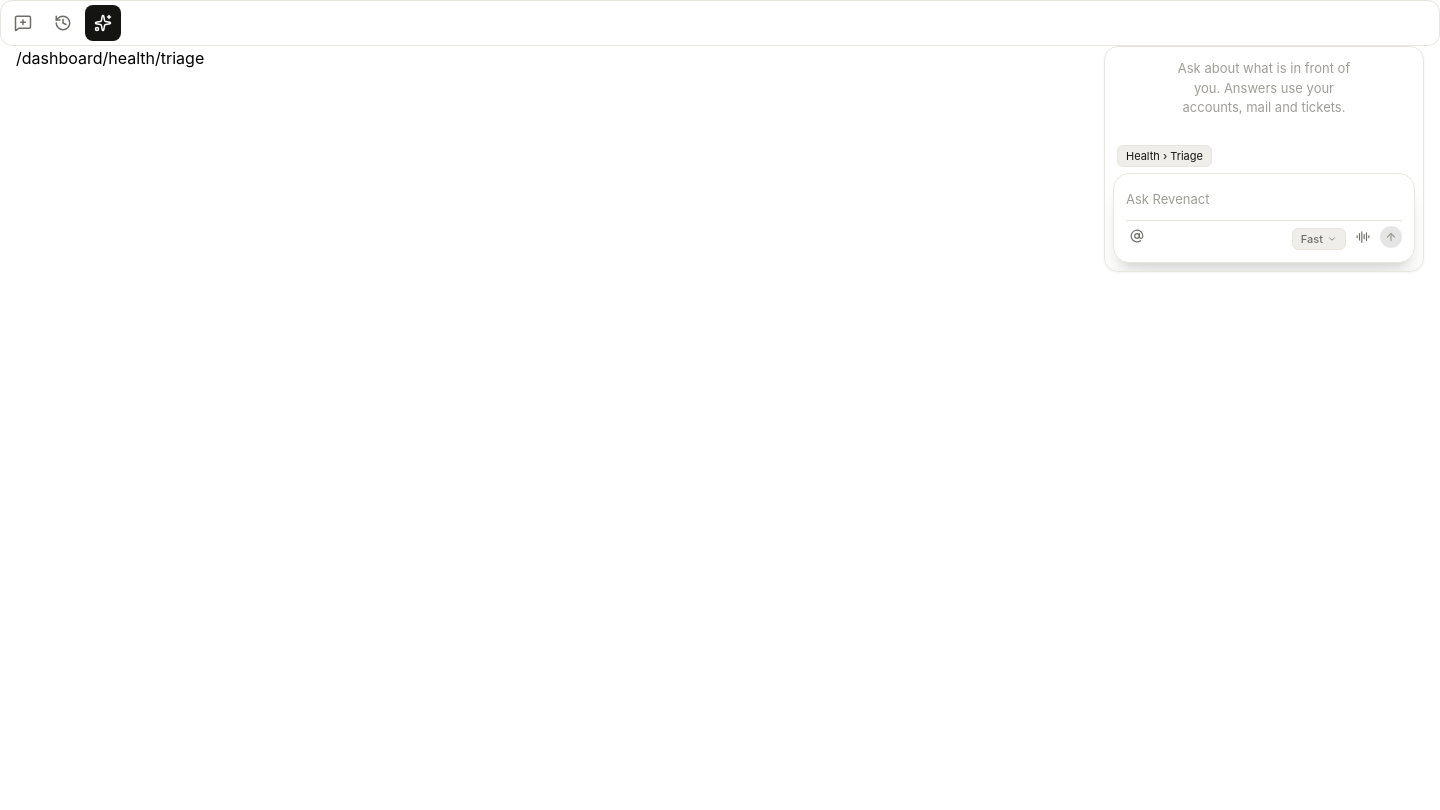
Test case: reopening from history on the dashboard › opens a conversation from elsewhere where you are
The width and height of the screenshot is (1440, 810).
Click the button named "History" at (63, 23), box [45, 5, 81, 41]
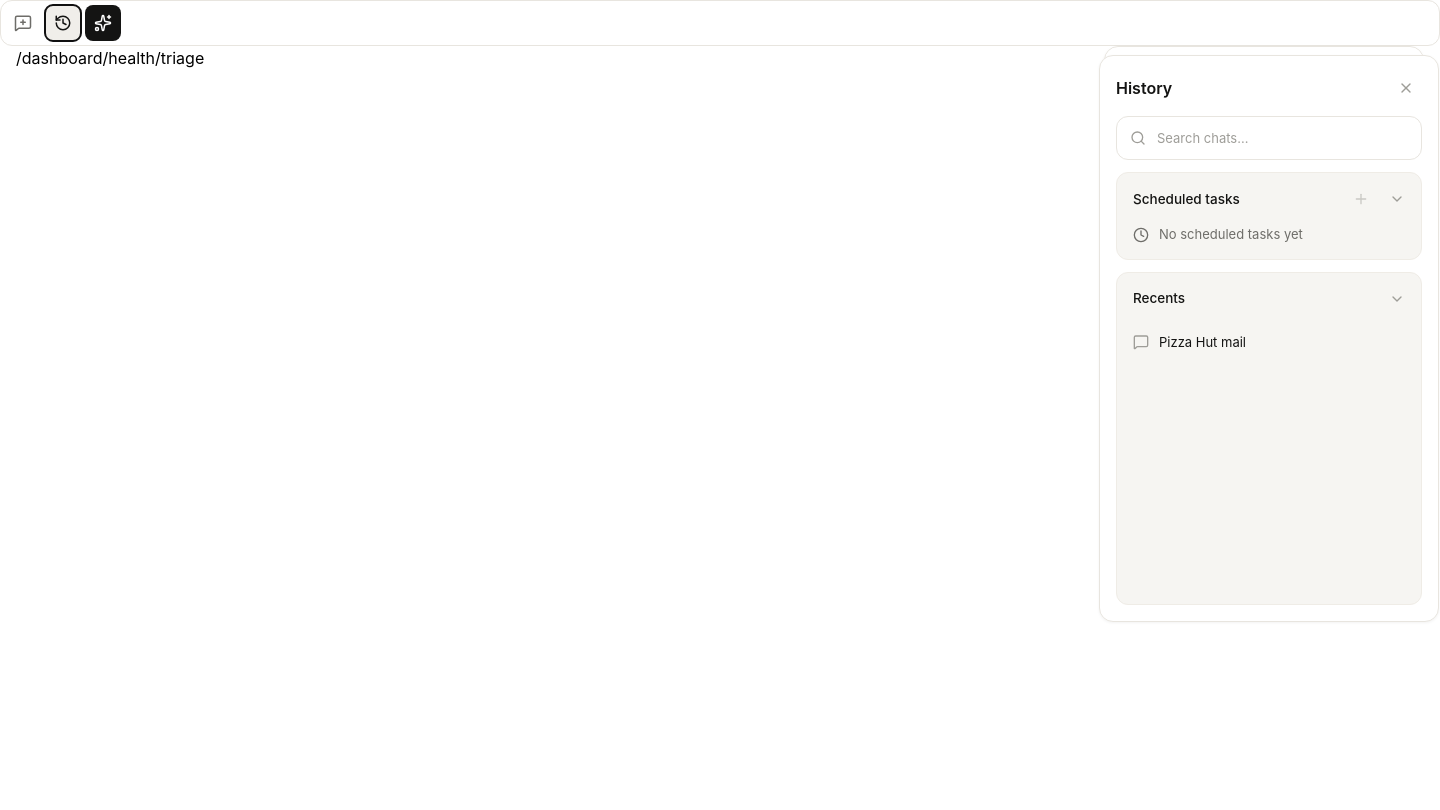
Click the button "Pizza Hut mail" at (1203, 342), box [1125, 324, 1413, 360]
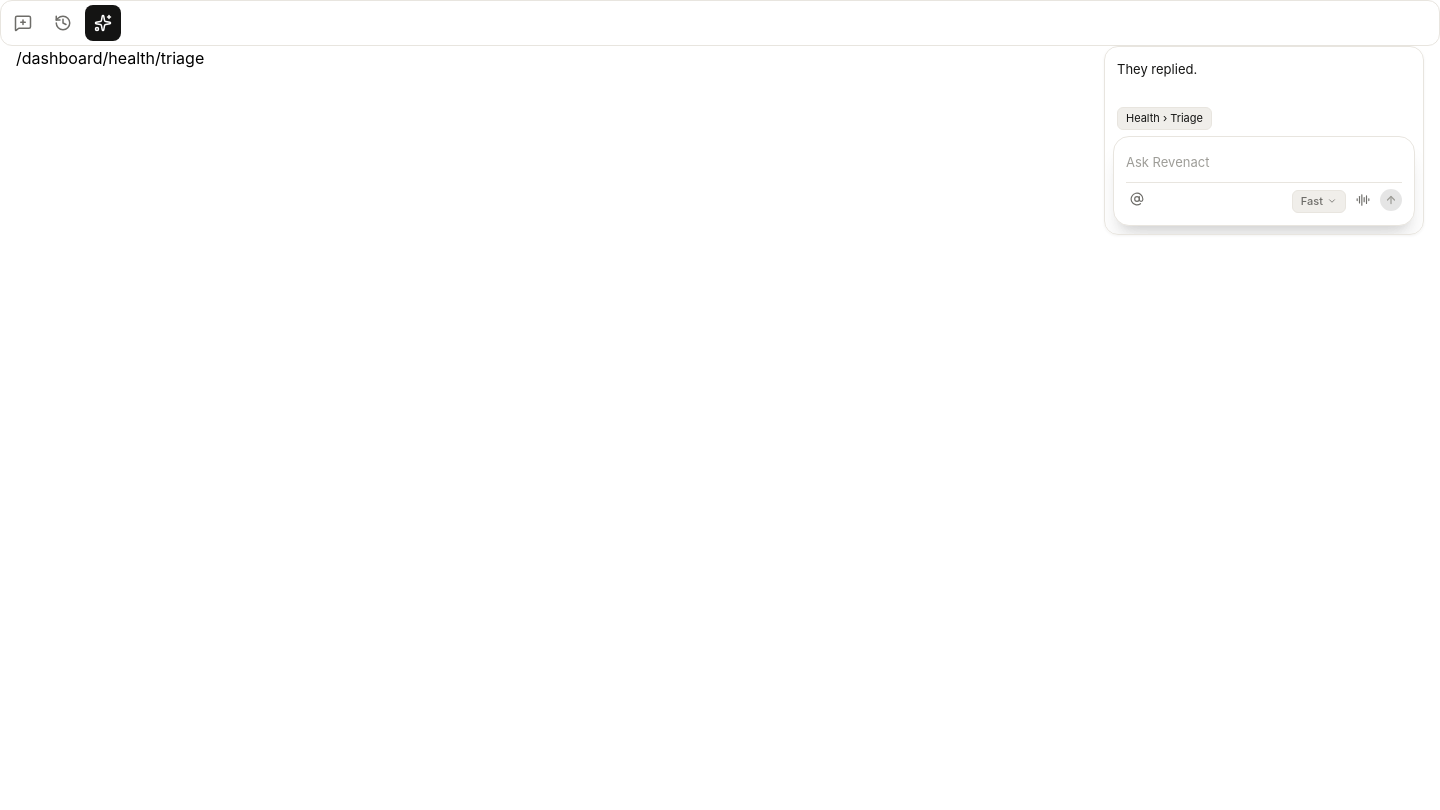
Check: the text with test id "where" reads "/dashboard/health/triage", box [16, 48, 204, 68]
Check: the text "They replied." is shown, box [1117, 59, 1197, 80]
